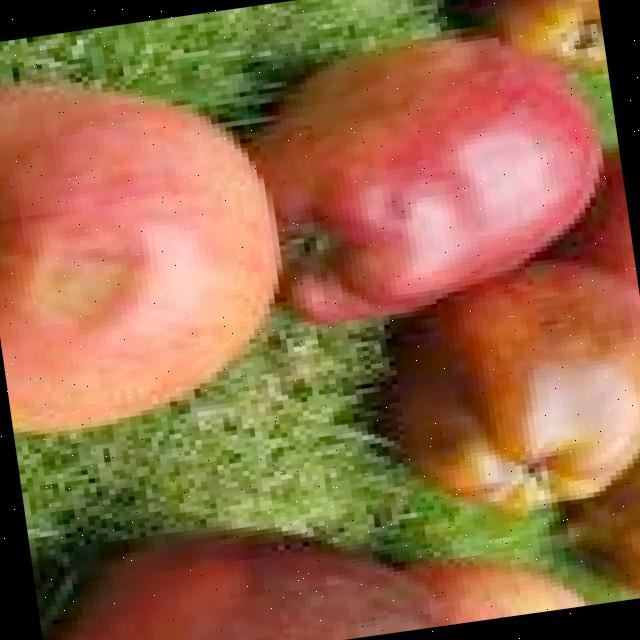Bad_Apple 0-1 day: (0, 84, 277, 432)
Good_Apple 10-21 days: (252, 38, 597, 324), (421, 564, 585, 626), (590, 175, 639, 292)
